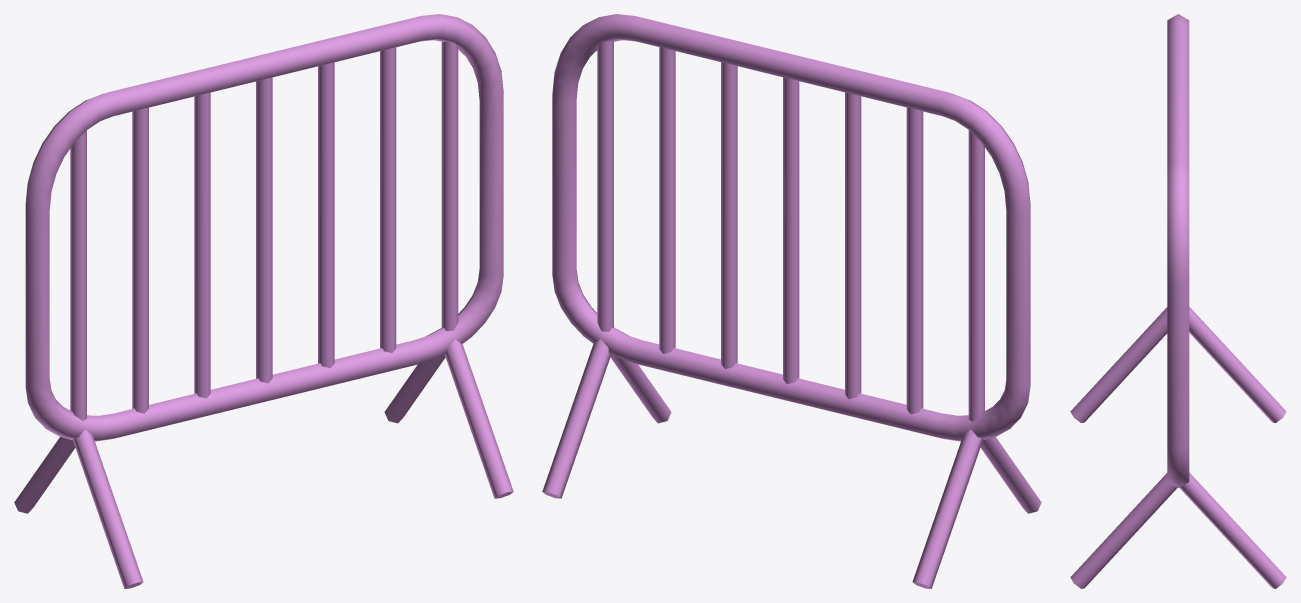
The model's file is RatiValla.fbx.
The picture shows the model from 3 angles, left to right: view 1: azimuth 30°, elevation 25°; view 2: azimuth 150°, elevation 25°; view 3: azimuth 270°, elevation 25°; orthographic projection. The views are drawn at different scales.
Parts seen in each view (by area): view 1: RatiValla; view 2: RatiValla; view 3: RatiValla.
Boxes of the visible parts, bbox=[...] form: RatiValla: bbox=[14, 14, 513, 588]; RatiValla: bbox=[542, 14, 1041, 588]; RatiValla: bbox=[1070, 14, 1286, 588].
Size of the model in its own units: 59.01 by 53.3 by 25.2.
